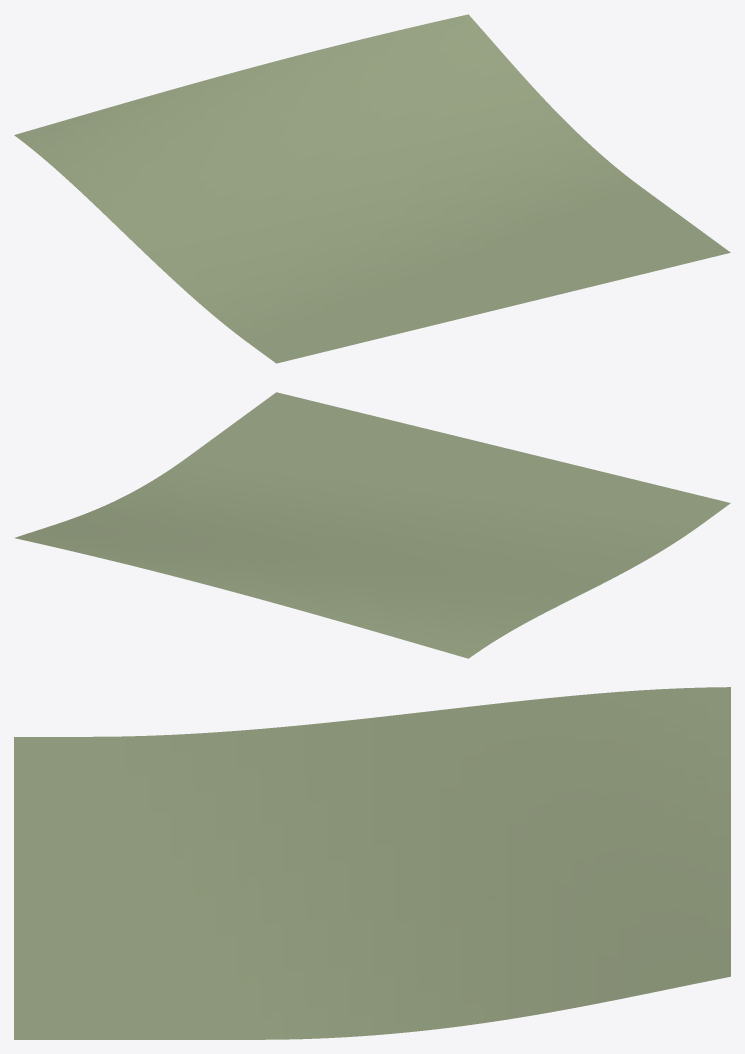
Rendered from valley-5-7.glb.
3 renders of one model, top to bottom at view 1: azimuth 30°, elevation 25°; view 2: azimuth 150°, elevation 25°; view 3: azimuth 270°, elevation 25°, orthographic. The views are drawn at different scales.
Parts seen in each view (by area): view 1: valley-5-7; view 2: valley-5-7; view 3: valley-5-7.
Boxes of the visible parts, bbox=[...] form: valley-5-7: bbox=[14, 14, 730, 363]; valley-5-7: bbox=[15, 392, 730, 658]; valley-5-7: bbox=[14, 687, 730, 1039].
Size of the model in its own units: 256 by 25.49 by 256.
